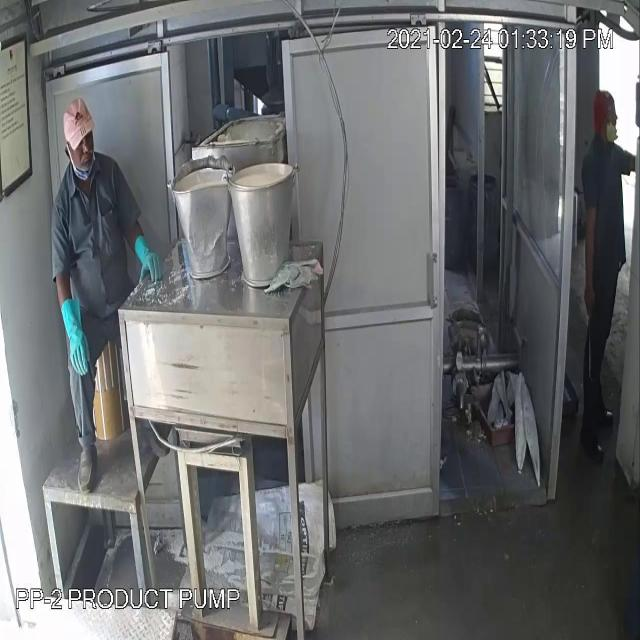no-helmet: (58, 92, 101, 154)
